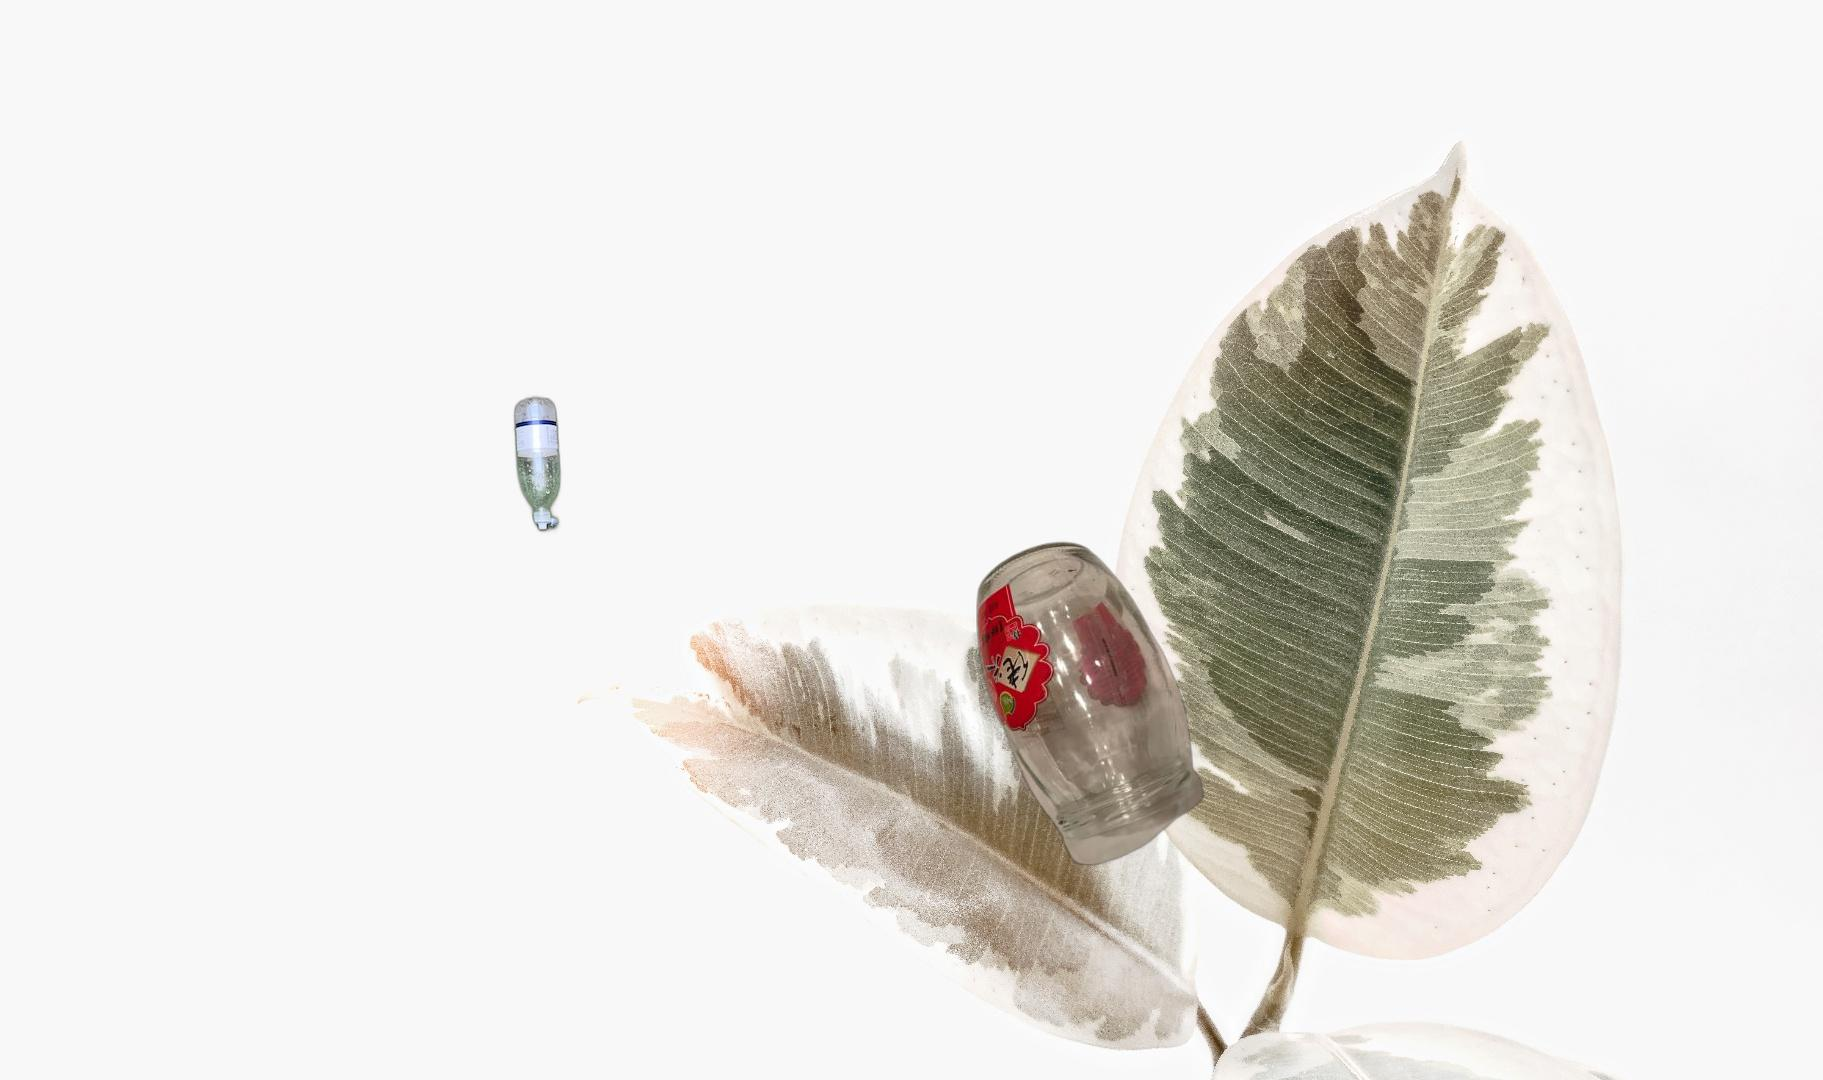glass: (840, 539, 1351, 879)
plastic-bottles: (510, 392, 564, 537)
